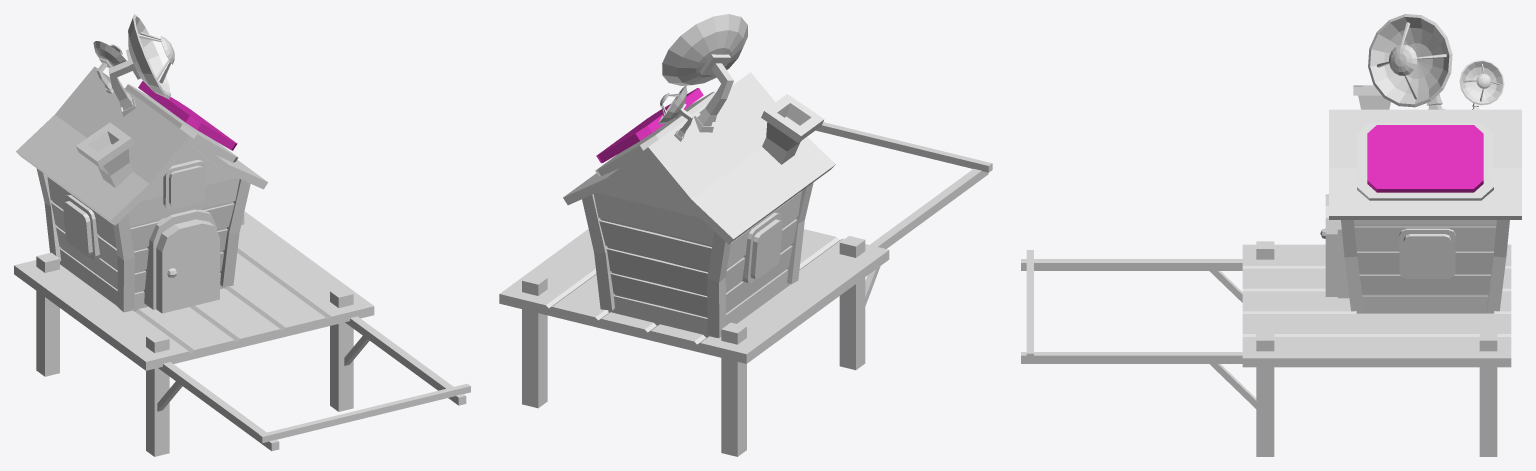
The model's file is domzpapieru.fbx.
3 renders of one model, left to right at view 1: azimuth 30°, elevation 25°; view 2: azimuth 150°, elevation 25°; view 3: azimuth 270°, elevation 25°, orthographic. The views are drawn at different scales.
Parts seen in each view (by area): view 1: Cube; view 2: Cube; view 3: Cube.
Part boxes in pixels (bbox=[...]): Cube: bbox=[14, 14, 470, 456]; Cube: bbox=[499, 14, 992, 456]; Cube: bbox=[1021, 14, 1521, 456].
Bounding box in the file's own units: 159 × 244 × 297.
